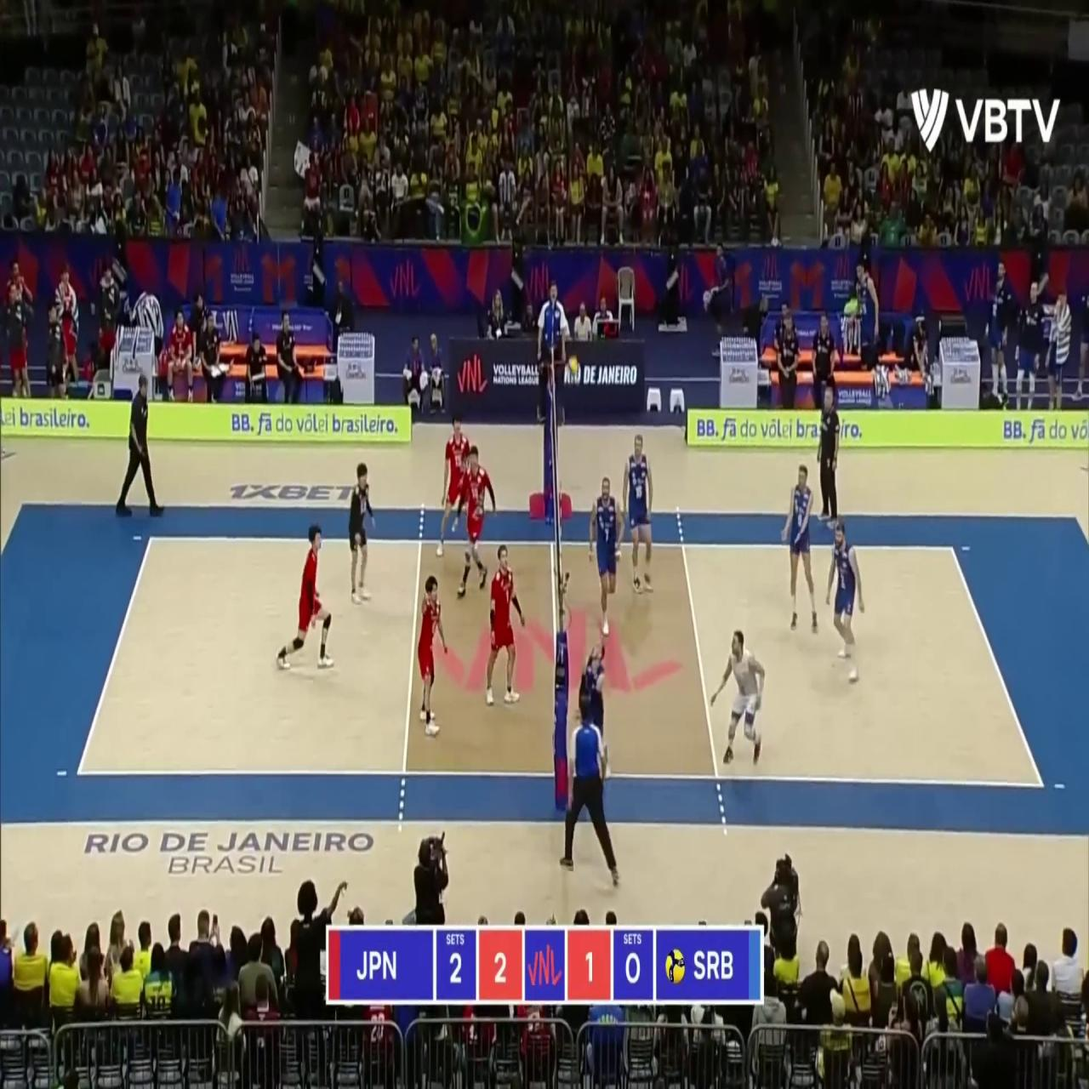ball: (569, 355, 577, 373)
